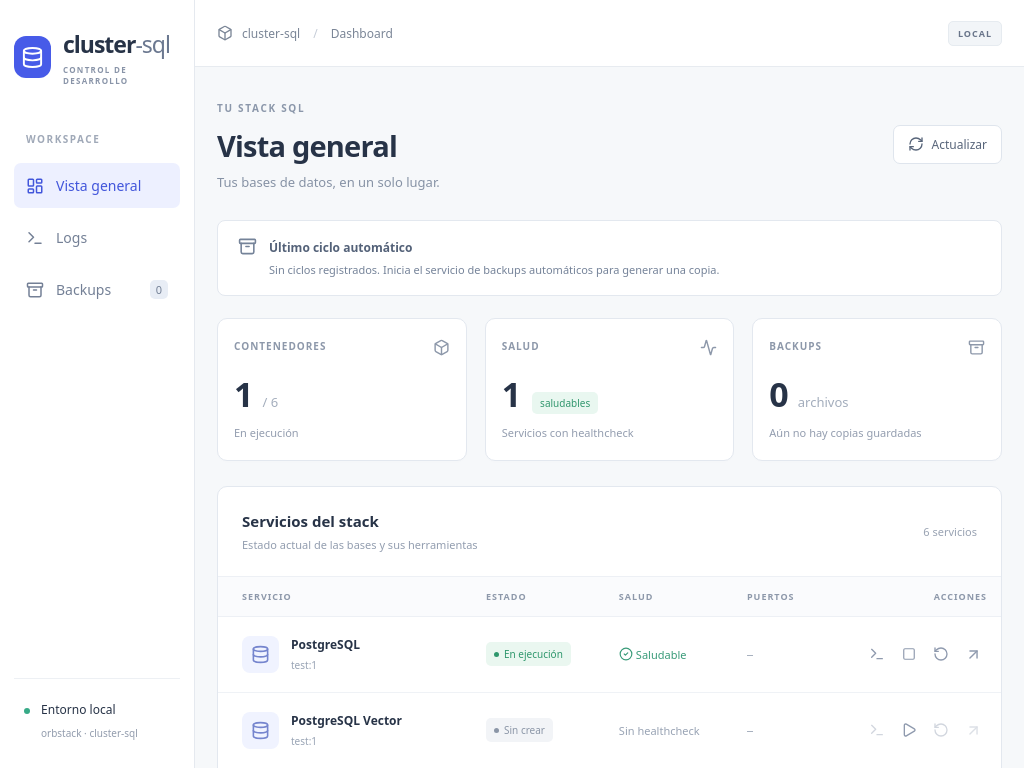
vista de backups muestra estado vacío
This screenshot has width=1024, height=768.
Check: the text "PostgreSQL" is shown, box [291,636,360,653]
Click the button "Backups 0". click: (97, 290)
box: [14,267,180,312]
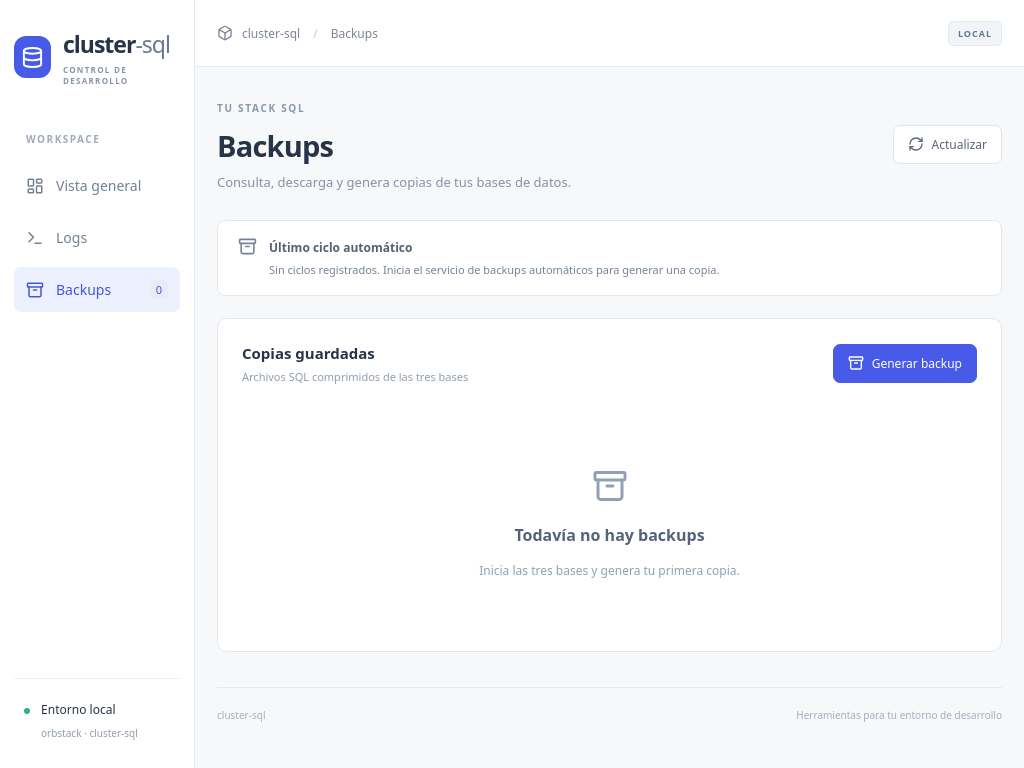
Check: the heading "Todavía no hay backups" is shown, box [514,524,705,546]
